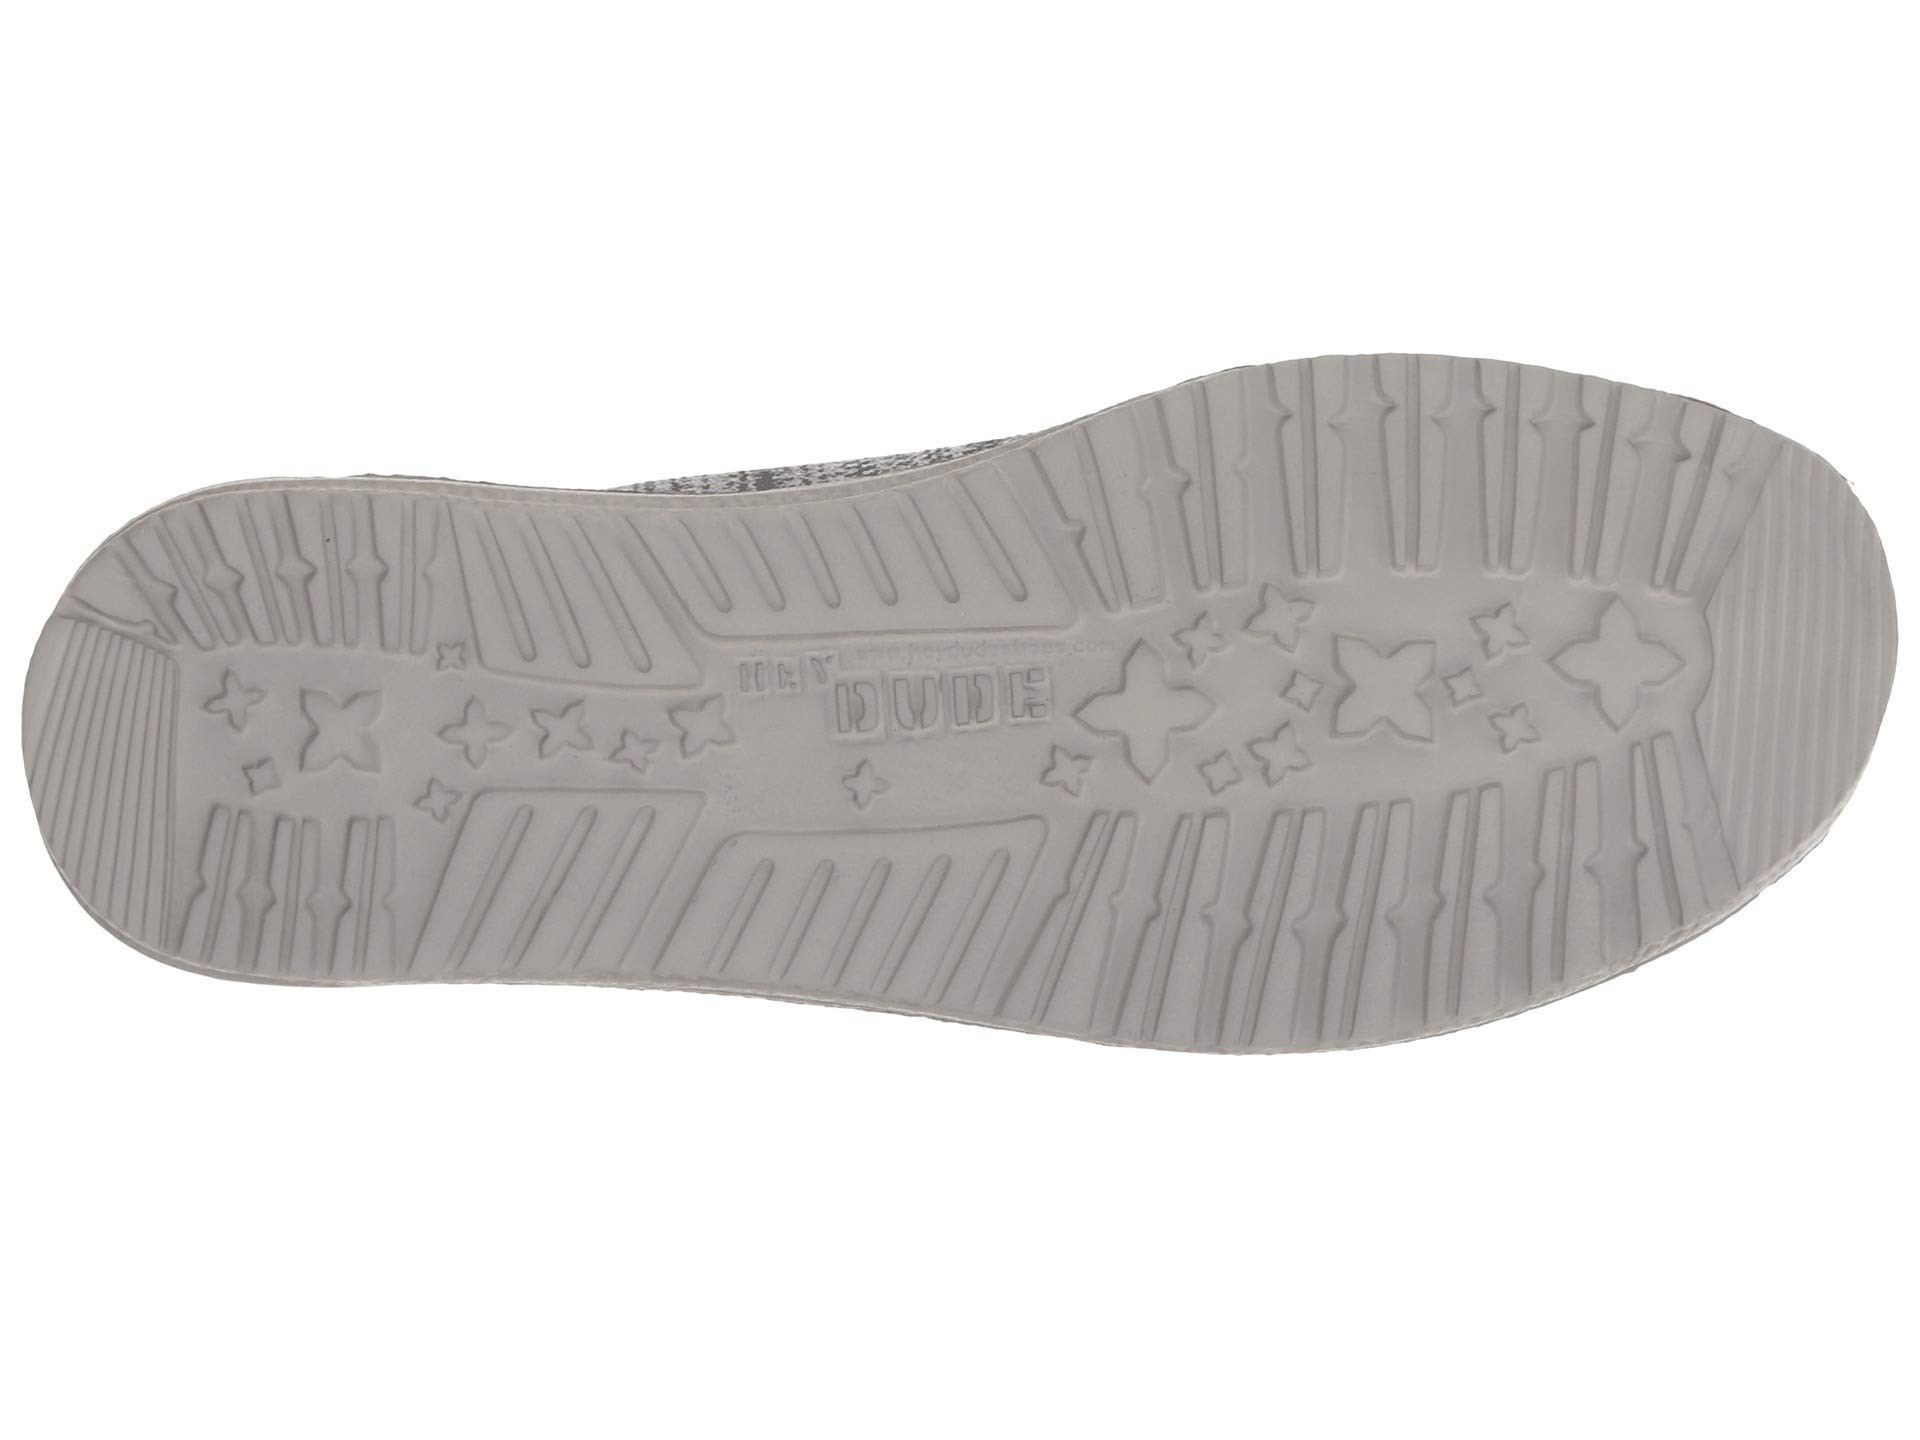star: (1060, 576, 1483, 833), (190, 641, 467, 853), (773, 619, 993, 853), (1457, 601, 1699, 771), (514, 652, 661, 806)
text: (773, 619, 993, 853)
